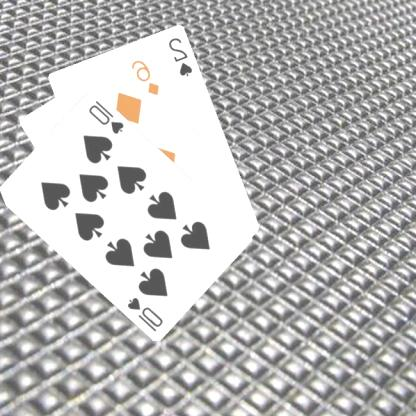10S: (87, 96, 127, 136), (126, 294, 166, 333)
2S: (167, 34, 196, 78)
6D: (130, 56, 163, 97)
